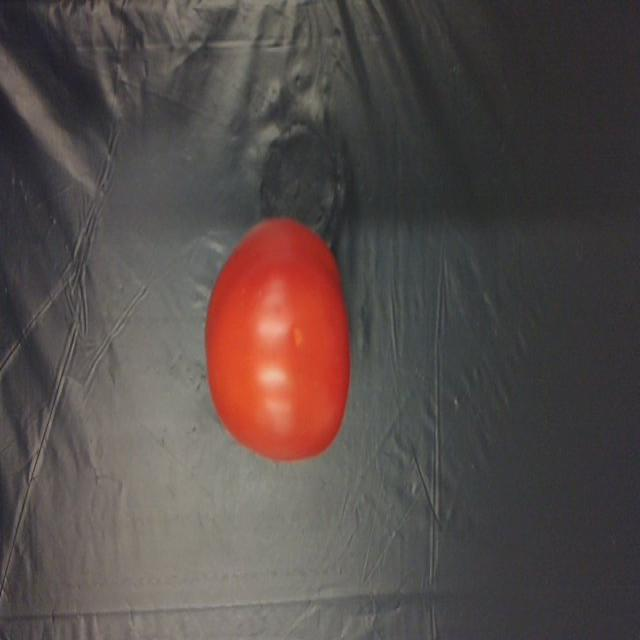kirmizi: (203, 194, 354, 469)
